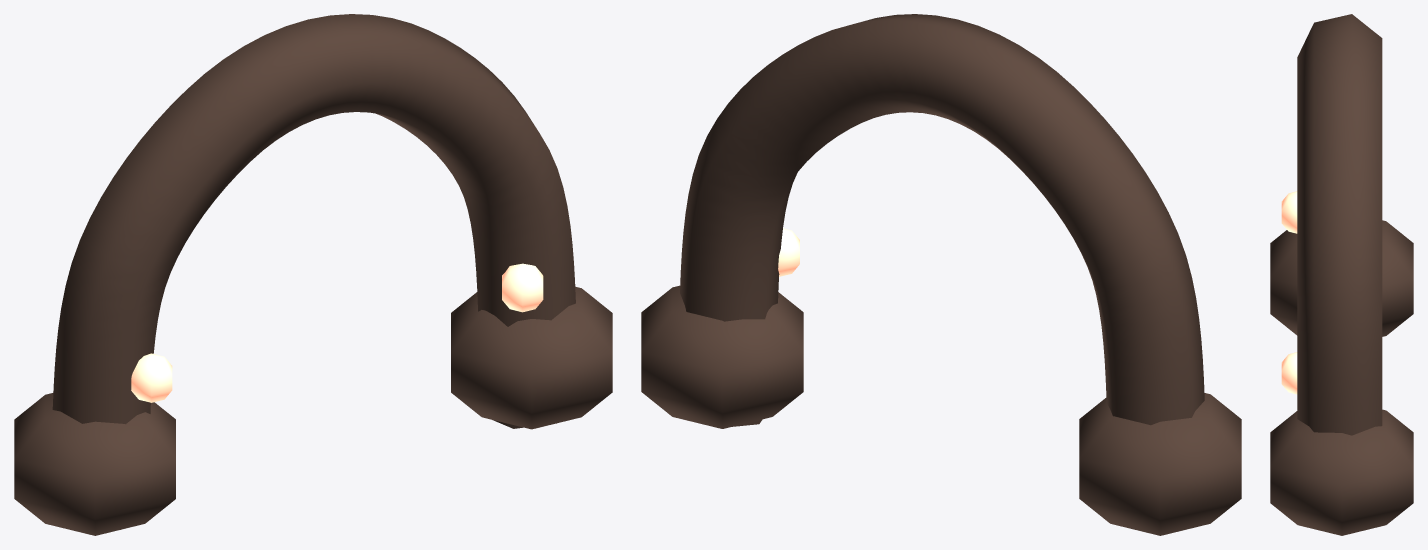
Rendered from obsidian-arch.glb.
The picture shows the model from 3 angles, left to right: view 1: azimuth 30°, elevation 25°; view 2: azimuth 150°, elevation 25°; view 3: azimuth 270°, elevation 25°; orthographic projection. The views are drawn at different scales.
Parts seen in each view (by area): view 1: Mesh_cliffDark, Mesh_glowCoral; view 2: Mesh_cliffDark, Mesh_glowCoral; view 3: Mesh_cliffDark, Mesh_glowCoral.
Boxes of the visible parts, x1,y1,x2,y2 form: Mesh_cliffDark: [14, 14, 612, 535]; Mesh_glowCoral: [131, 263, 543, 402]; Mesh_cliffDark: [641, 14, 1241, 535]; Mesh_glowCoral: [778, 228, 799, 276]; Mesh_cliffDark: [1270, 14, 1413, 535]; Mesh_glowCoral: [1281, 191, 1297, 394].
Size of the model in its own units: 6.58 by 4.7 by 1.54.
